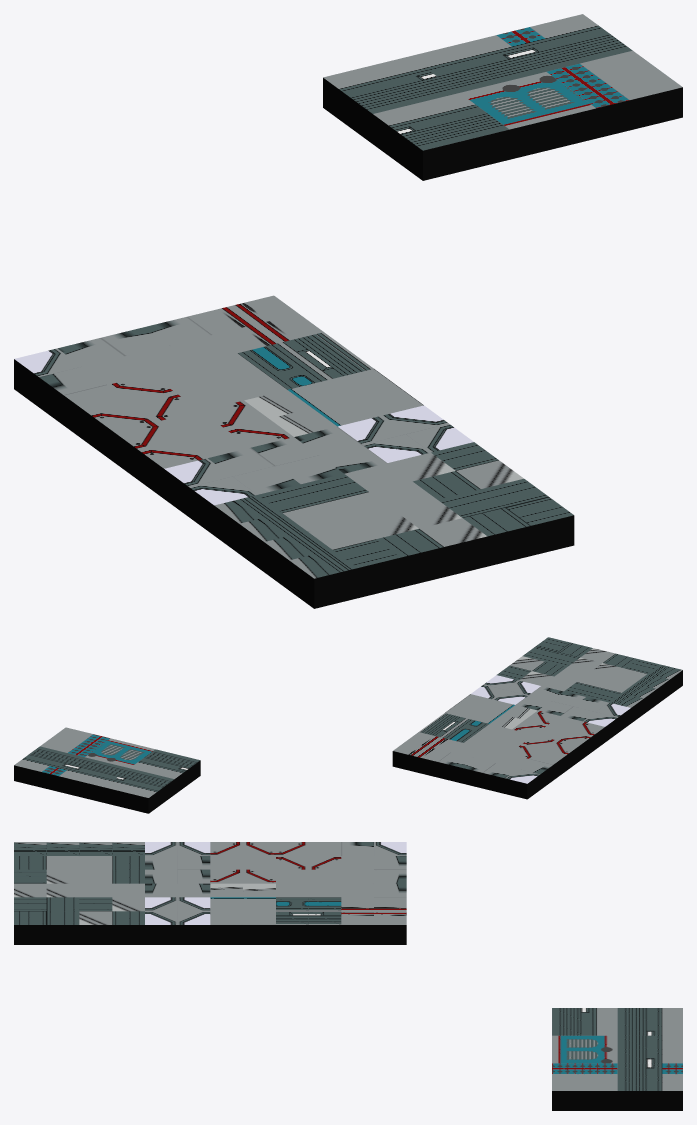
File: ENV_Structures_Ground_Tiles.fbx_Pack2.fbx
3 views of the same model, one above another, from view 1: azimuth 30°, elevation 25°; view 2: azimuth 150°, elevation 25°; view 3: azimuth 270°, elevation 25° (orthographic). The views are drawn at different scales.
Visible parts, largest first — view 1: P2-16, P2-P04, P2-18, P2-P05, P2-P06, P2-17, P2-13, P2-10, P2-01, P2-07, P2-04, P2-P01 (+12 smaller); view 2: P2-01, P2-P01, P2-02, P2-03, P2-P02, P2-P03, P2-04, P2-07, P2-P04, P2-13, P2-10, P2-16 (+12 smaller); view 3: P2-03, P2-06, P2-09, P2-12, P2-15, P2-18, P2-P03, P2-P06, P2-02, P2-08, P2-14, P2-P05 (+12 smaller).
Boxes of the visible parts, box(x1,y1,x2,y2) form: P2-16: box(264, 521, 400, 608); P2-P04: box(373, 93, 509, 180); P2-18: box(438, 479, 574, 566); P2-P05: box(460, 72, 596, 159); P2-P06: box(546, 50, 682, 138); P2-17: box(351, 500, 487, 587); P2-13: box(214, 484, 350, 571); P2-10: box(164, 447, 300, 535); P2-01: box(14, 338, 150, 425); P2-07: box(114, 411, 250, 498); P2-04: box(64, 374, 199, 461); P2-P01: box(323, 56, 458, 143); P2-01: box(482, 754, 553, 799); P2-P01: box(103, 768, 174, 813); P2-02: box(437, 743, 507, 788); P2-03: box(392, 732, 462, 777); P2-P02: box(59, 757, 129, 802); P2-P03: box(14, 746, 84, 791); P2-04: box(509, 735, 579, 780); P2-07: box(535, 716, 605, 761); P2-P04: box(130, 749, 200, 794); P2-13: box(586, 678, 656, 723); P2-10: box(561, 697, 630, 741); P2-16: box(612, 659, 682, 704); P2-03: box(341, 897, 406, 944); P2-06: box(276, 897, 341, 944); P2-09: box(210, 897, 275, 944); P2-12: box(145, 897, 210, 944); P2-15: box(79, 897, 144, 944); P2-18: box(14, 897, 79, 944); P2-P03: box(617, 1063, 682, 1110); P2-P06: box(552, 1063, 617, 1110); P2-02: box(341, 869, 406, 897); P2-08: box(210, 869, 275, 897); P2-14: box(79, 869, 144, 897); P2-P05: box(552, 1035, 617, 1063).
Size of the model in its own units: 2700 by 3066 by 100.
